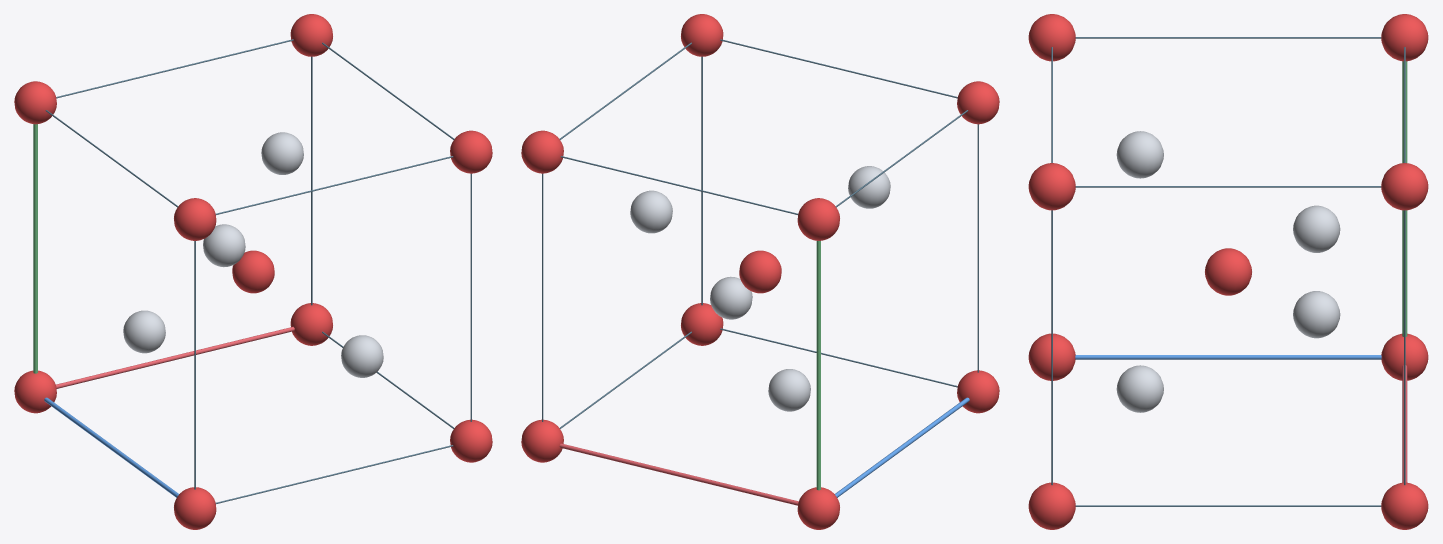
Rendered from chat-silver-oxide.glb.
3 views of the same model, side by side, from view 1: azimuth 30°, elevation 25°; view 2: azimuth 150°, elevation 25°; view 3: azimuth 270°, elevation 25° (orthographic). The views are drawn at different scales.
Visible parts, largest first — view 1: O1 · O · 1 (×9), Ô mạng và các trục a, b, c, Ag1 · Ag · 1 (×4); view 2: O1 · O · 1 (×9), Ô mạng và các trục a, b, c, Ag1 · Ag · 1 (×4); view 3: O1 · O · 1 (×9), Ag1 · Ag · 1 (×4), Ô mạng và các trục a, b, c.
Part boxes in pixels (box(x1,y1,x2,y2)): O1 · O · 1 (×9): box(14, 14, 492, 529); Ô mạng và các trục a, b, c: box(33, 39, 471, 503); Ag1 · Ag · 1 (×4): box(123, 132, 383, 377); O1 · O · 1 (×9): box(521, 14, 999, 529); Ô mạng và các trục a, b, c: box(542, 39, 978, 505); Ag1 · Ag · 1 (×4): box(630, 166, 890, 411); O1 · O · 1 (×9): box(1028, 14, 1428, 529); Ag1 · Ag · 1 (×4): box(1116, 131, 1340, 412); Ô mạng và các trục a, b, c: box(1051, 37, 1407, 506).
Bounding box in the file's own units: 5.4 × 5.4 × 5.4.
